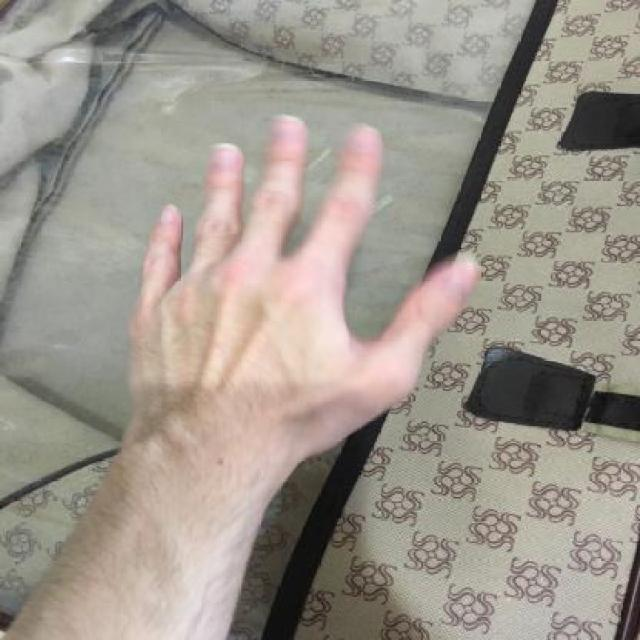bare_hand: (106, 95, 508, 483)
